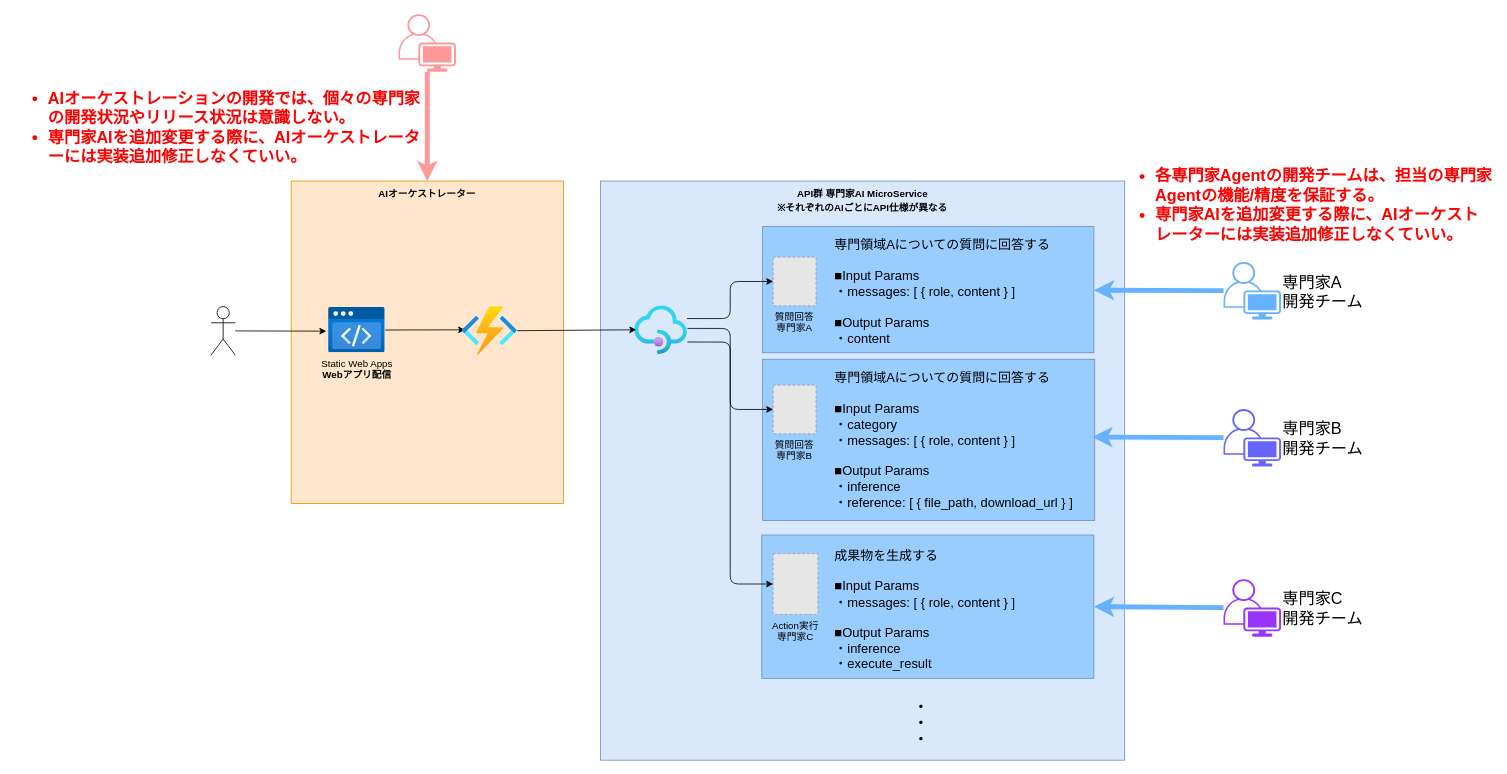
Image size: 1507x774. Some labels were removed from this diagram. Grey dashed boxes stand in for pictures. Here are the shapes that lost their labels. From the top down, the centre of each, then its label:
At pixel 427 42: "AIオーケストレー ター 開発チーム".
At pixel 222 330: "User".
At pixel 489 330: "Durable Functions AIオーケストレーション".
At pixel 660 329: "API Management 専門家Agent管理".
